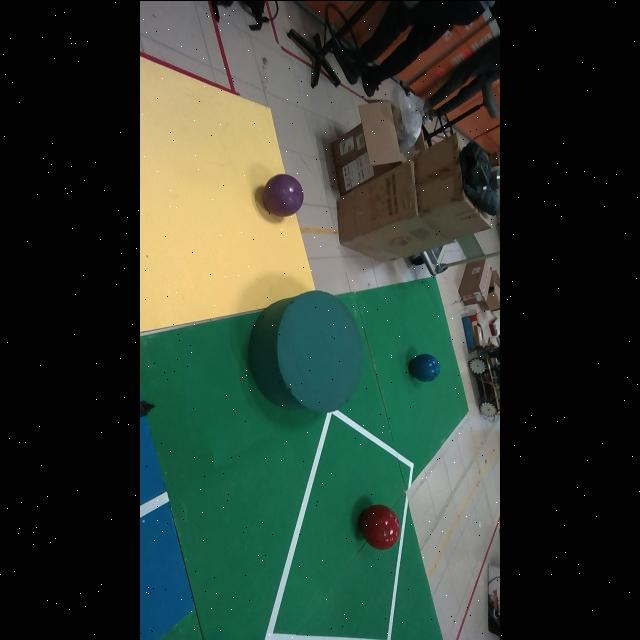B: (409, 352, 440, 381)
P: (263, 172, 304, 216)
R: (361, 504, 400, 549)
